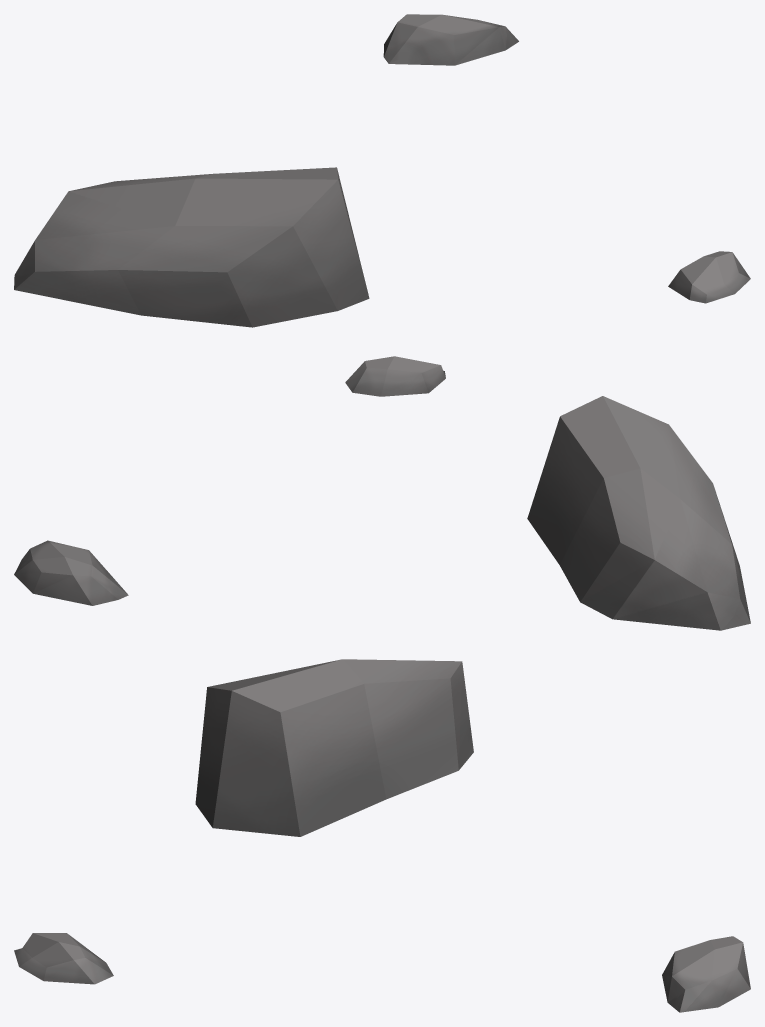
Rendered from RockB.fbx.
3 views of the same model, one above another, from view 1: azimuth 30°, elevation 25°; view 2: azimuth 150°, elevation 25°; view 3: azimuth 270°, elevation 25° (orthographic). The views are drawn at different scales.
Visible parts, largest first — view 1: RocasB; view 2: RocasB; view 3: RocasB.
Boxes of the visible parts, x1=… form: RocasB: x1=14, y1=14, x2=750, y2=327; RocasB: x1=14, y1=356, x2=750, y2=630; RocasB: x1=14, y1=659, x2=750, y2=1012.
Bounding box in the file's own units: 0.8386 × 0.1501 × 0.7967.
